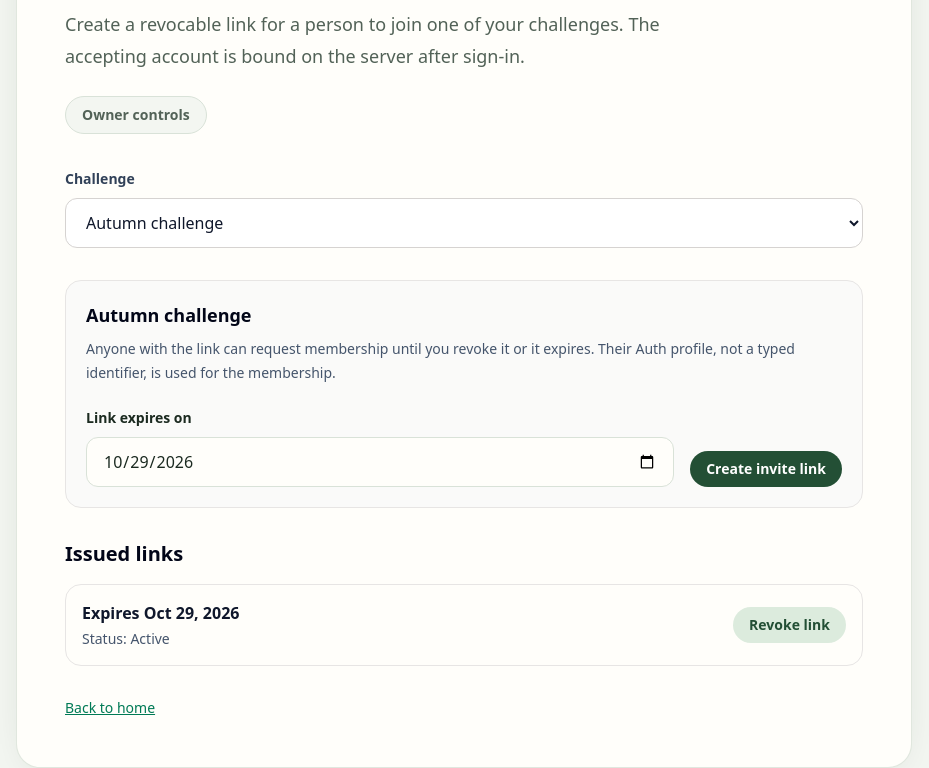
Test case: ChallengeInvitesPage › lets the owner revoke an active link
(page scrolled)
Click the button "Revoke link" at (790, 625), box x1=733 y1=607 x2=846 y2=643
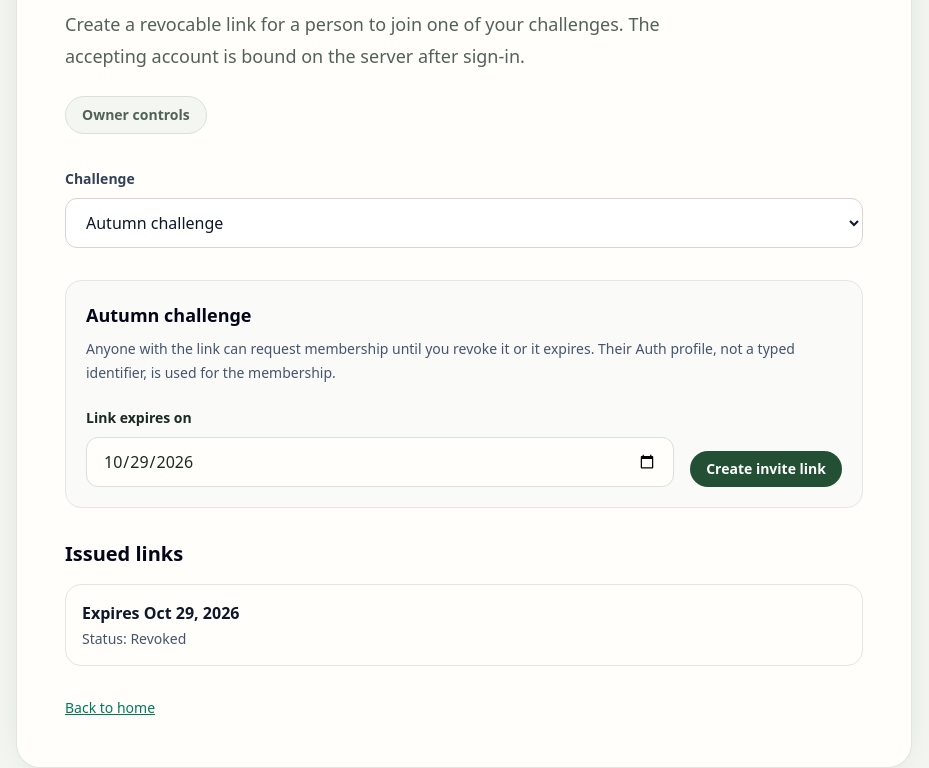
Now the text "Status: revoked" is shown, box x1=82 y1=629 x2=186 y2=648
